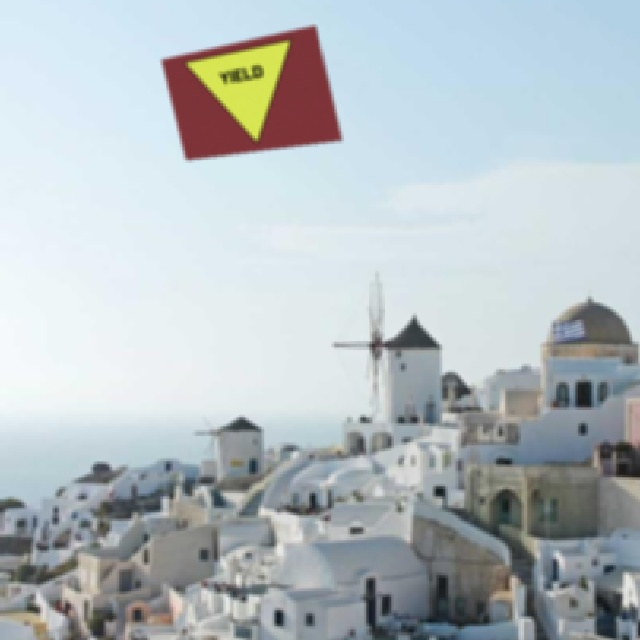YIELD: (182, 36, 313, 155)
